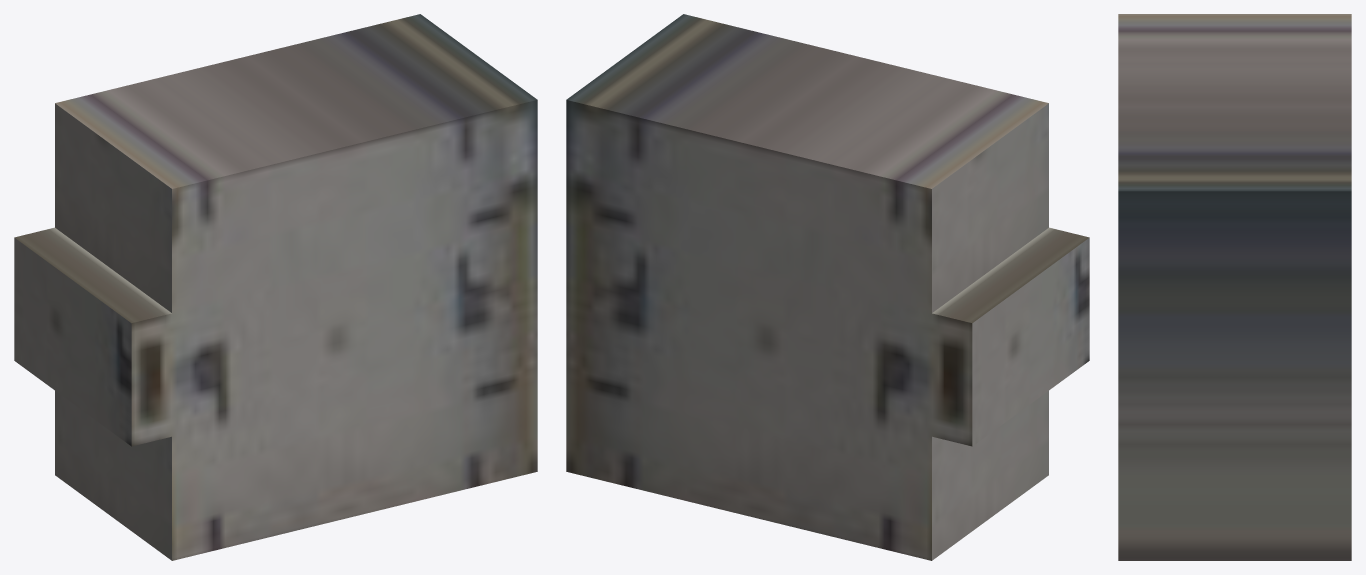
The model's file is s4_truss_23_battery_mid_right.dae.
3 renders of one model, left to right at view 1: azimuth 30°, elevation 25°; view 2: azimuth 150°, elevation 25°; view 3: azimuth 270°, elevation 25°, orthographic.
Parts seen in each view (by area): view 1: 23 S4 Truss; view 2: 23 S4 Truss; view 3: 23 S4 Truss.
Part boxes in pixels (bbox=[...]): 23 S4 Truss: bbox=[14, 14, 537, 560]; 23 S4 Truss: bbox=[566, 14, 1089, 560]; 23 S4 Truss: bbox=[1118, 14, 1351, 560].
Size of the model in its own units: 1.05 by 0.5252 by 0.9191.
2 materials, 2 textured.
